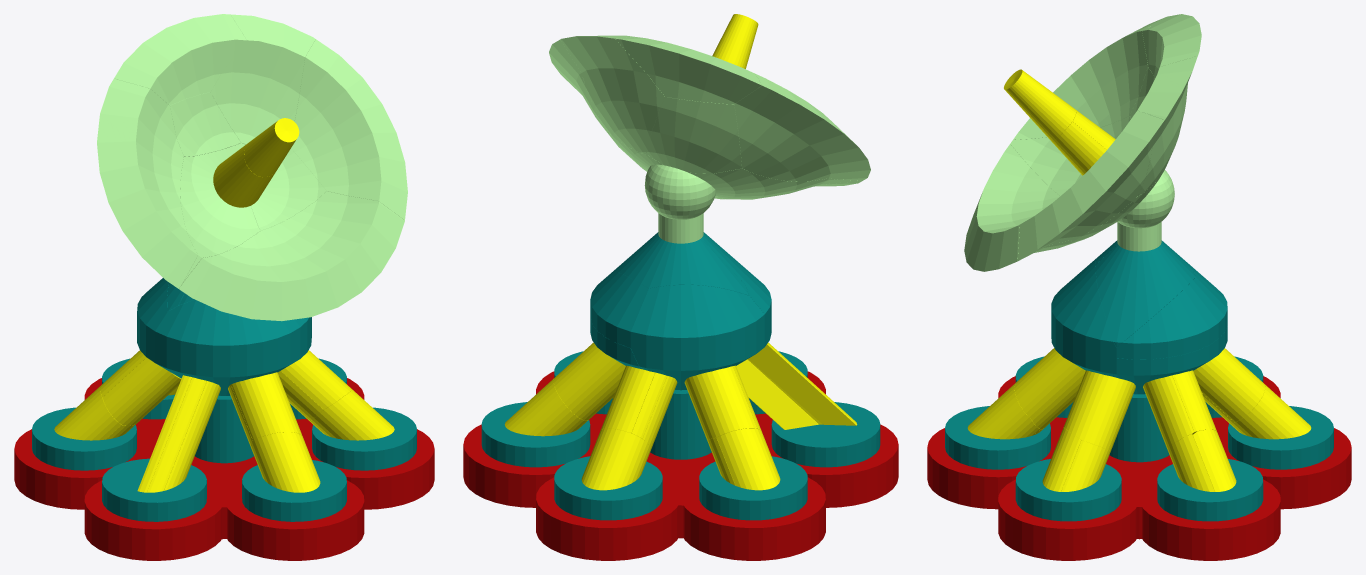
File: SeaRadarDebris.dae
The picture shows the model from 3 angles, left to right: view 1: azimuth 30°, elevation 25°; view 2: azimuth 150°, elevation 25°; view 3: azimuth 270°, elevation 25°; orthographic projection. The views are drawn at different scales.
Visible parts, largest first — view 1: Cone_cell, Cone_cell.002, Cone_cell.007, Cylinder.007_cell.005, Cone_cell.003, Cone_cell.005, Cylinder.014, Cylinder.013, Cone_cell.006, Cylinder.006, Cylinder.001, Cylinder.002 (+23 smaller); view 2: Cylinder.007_cell.003, Cone_cell.002, Cone_cell.003, Cylinder.011, Cylinder.012, Cone_cell.001, Cone_cell.005, Cylinder.006, Cylinder.007_cell.007, Cylinder.005, Cylinder.003, Cylinder.004 (+22 smaller); view 3: Cone_cell.007, Cone_cell, Cylinder.009, Cylinder.010, Cylinder.007_cell.007, Cone_cell.002, Cylinder.007_cell, Cylinder.007_cell.005, Cylinder.002, Cylinder.004, Cylinder.011, Cylinder.001 (+26 smaller).
Boxes of the visible parts, x1,y1,x2,y2 form: Cone_cell: (179,191,404,321); Cone_cell.002: (97,78,197,288); Cone_cell.007: (291,39,407,220); Cylinder.007_cell.005: (155,299,311,395); Cone_cell.003: (210,14,315,144); Cone_cell.005: (114,14,246,105); Cylinder.014: (84,480,224,560); Cylinder.013: (224,480,364,560); Cone_cell.006: (180,143,260,283); Cylinder.006: (102,458,206,521); Cylinder.001: (242,460,346,521); Cylinder.002: (312,407,416,470); Cylinder.007_cell.003: (630,284,764,384); Cone_cell.002: (734,74,870,181); Cone_cell.003: (560,35,664,154); Cylinder.011: (536,477,680,560); Cylinder.012: (681,477,825,560); Cone_cell.001: (646,97,741,173); Cone_cell.005: (615,37,761,104); Cylinder.006: (771,402,880,467); Cylinder.007_cell.007: (613,232,749,295); Cylinder.005: (699,456,807,520); Cylinder.003: (554,456,662,520); Cylinder.004: (481,402,590,467); Cone_cell.007: (1017,110,1164,260); Cone_cell: (964,144,1070,271); Cylinder.009: (1140,479,1280,560); Cylinder.010: (998,479,1138,560); Cylinder.007_cell.007: (1095,240,1195,346); Cone_cell.002: (1013,16,1170,139); Cylinder.007_cell: (1116,277,1227,359); Cylinder.007_cell.005: (1051,257,1116,376); Cylinder.002: (1015,459,1121,521); Cylinder.004: (1157,459,1263,521); Cylinder.011: (1218,428,1351,509); Cylinder.001: (945,406,1050,469).
Size of the model in its own units: 6.82 by 7.5 by 8.66.
